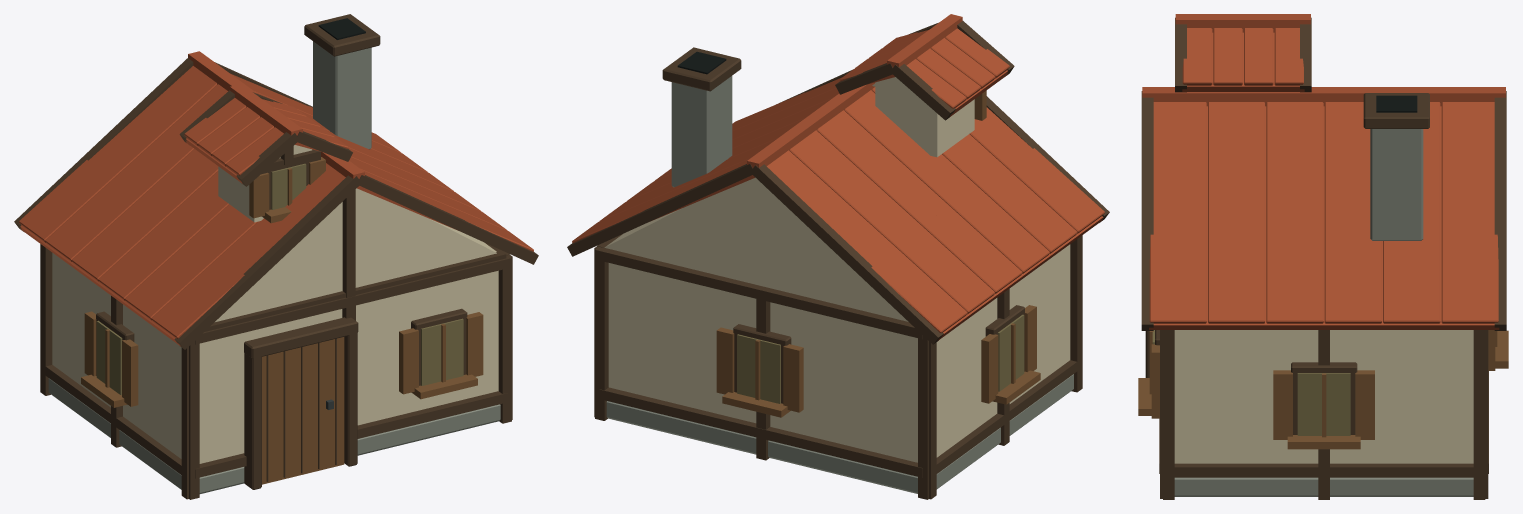
Rendered from house_a.glb.
The picture shows the model from 3 angles, left to right: view 1: azimuth 30°, elevation 25°; view 2: azimuth 150°, elevation 25°; view 3: azimuth 270°, elevation 25°; orthographic projection. The views are drawn at different scales.
Visible parts, largest first — view 1: house_a; view 2: house_a; view 3: house_a.
Part boxes in pixels (box(x1,y1,x2,y2)): house_a: box(14, 14, 538, 499); house_a: box(567, 14, 1109, 499); house_a: box(1138, 14, 1508, 499).
Size of the model in its own units: 6.9 by 6.18 by 5.6.
